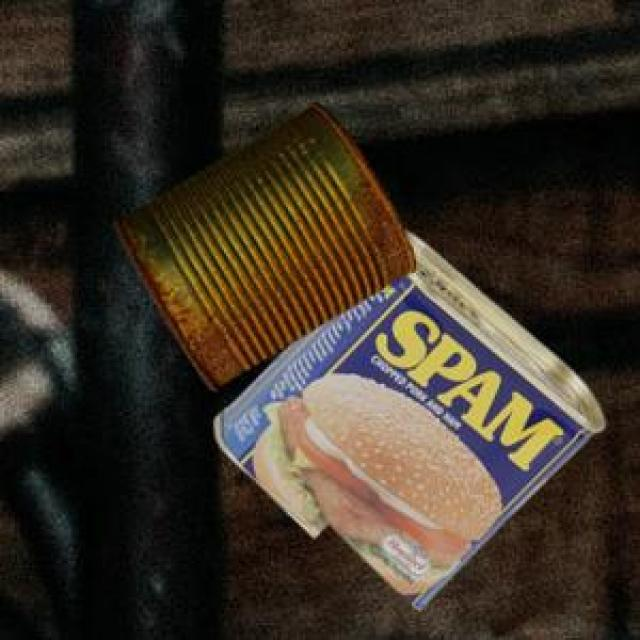logam: (212, 227, 601, 605), (112, 99, 413, 387)
